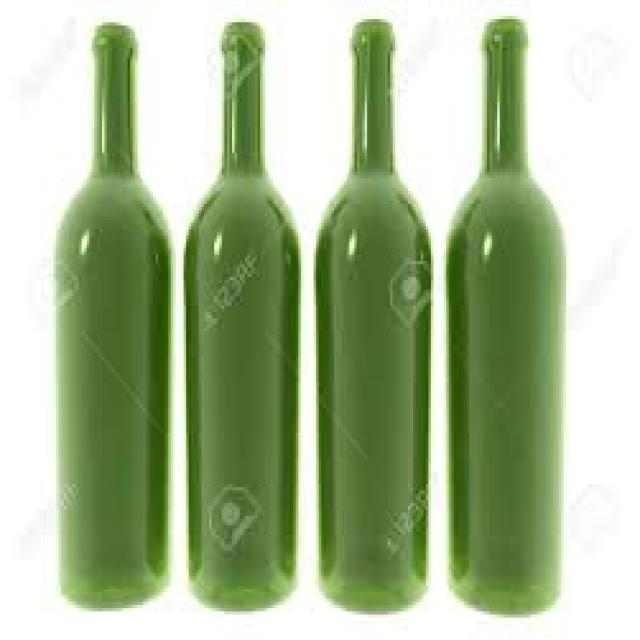glass: (446, 16, 564, 614), (314, 16, 431, 608), (181, 19, 296, 605), (54, 19, 166, 605)
